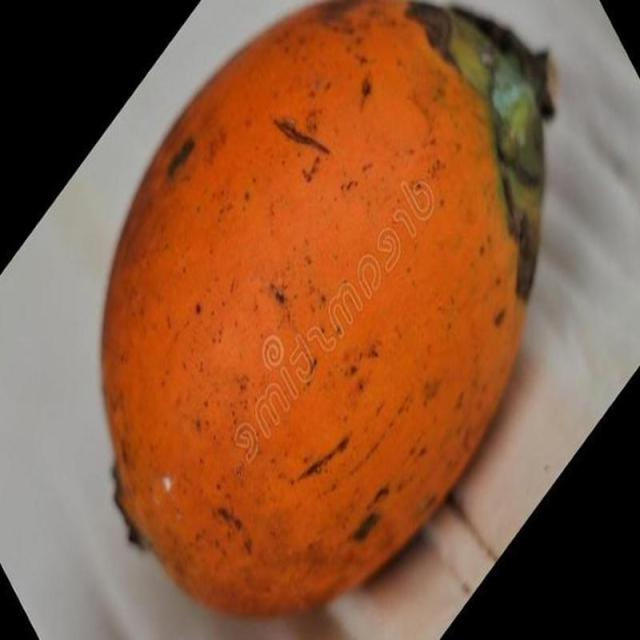good: (98, 0, 549, 622)
